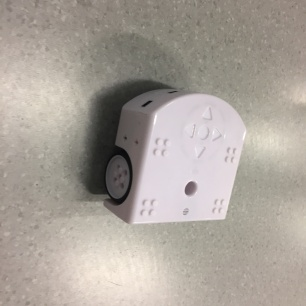thymio: (101, 85, 250, 228)
